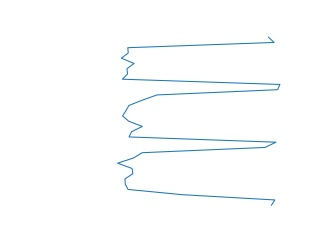majorRiverChannelBar: (116, 38, 284, 208)
